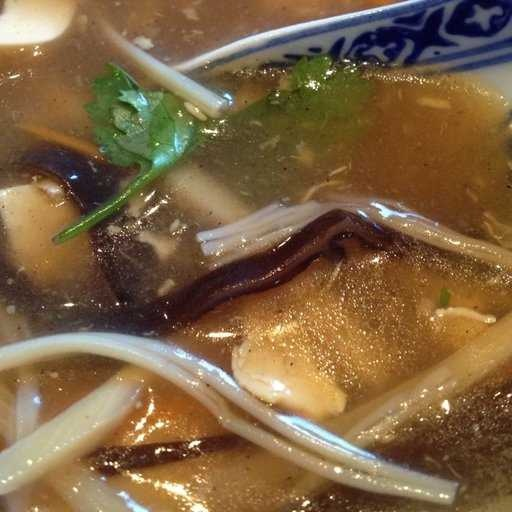soup: (2, 13, 495, 506)
